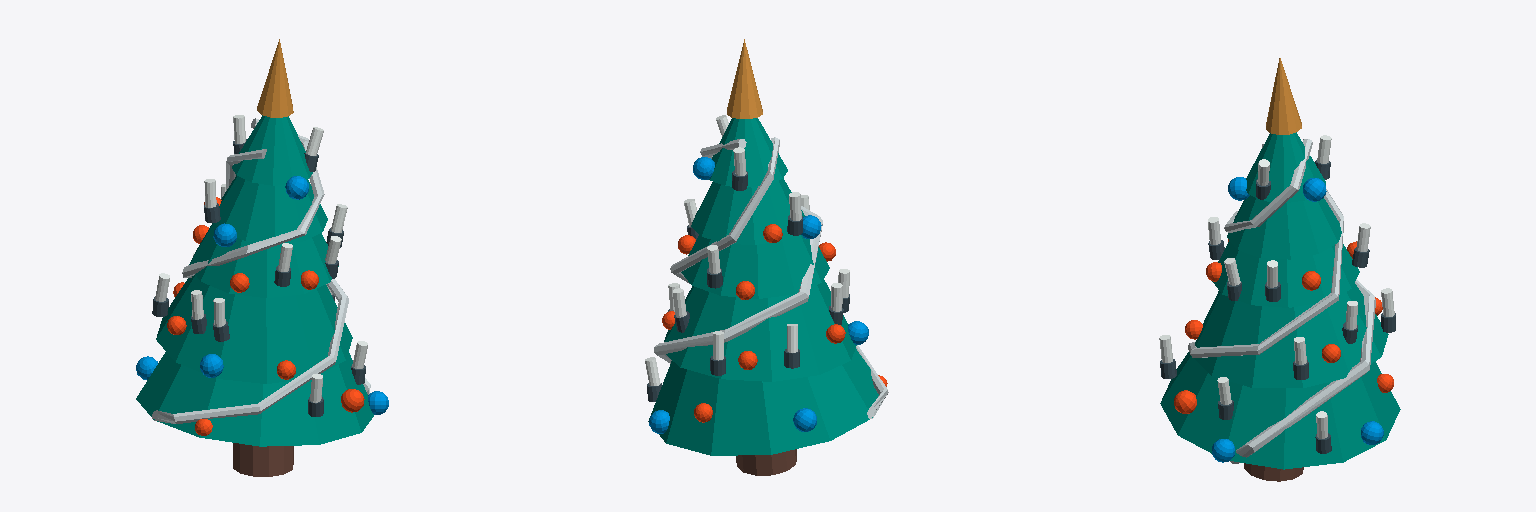
The model's file is tree_seven.obj.
The picture shows the model from 3 angles: view 1: azimuth 30°, elevation 25°; view 2: azimuth 150°, elevation 25°; view 3: azimuth 270°, elevation 25°; orthographic projection.
Parts seen in each view (by area): view 1: group[number redacted], group[number redacted], group[number redacted], group[number redacted], group[number redacted], group[number redacted], group[number redacted], group[number redacted], group[number redacted]; view 2: group[number redacted], group[number redacted], group[number redacted], group[number redacted], group[number redacted], group[number redacted], group[number redacted], group[number redacted], group[number redacted]; view 3: group[number redacted], group[number redacted], group[number redacted], group[number redacted], group[number redacted], group[number redacted], group[number redacted], group[number redacted], group[number redacted].
Boxes of the visible parts, box(x1,y1,x2,y2) form: group[number redacted]: box(156, 275, 352, 383); group[number redacted]: box(136, 352, 373, 446); group[number redacted]: box(189, 223, 338, 297); group[number redacted]: box(215, 175, 327, 243); group[number redacted]: box(232, 115, 312, 185); group[number redacted]: box(152, 149, 348, 423); group[number redacted]: box(182, 118, 370, 394); group[number redacted]: box(233, 443, 293, 476); group[number redacted]: box(257, 39, 293, 117); group[number redacted]: box(648, 349, 878, 455); group[number redacted]: box(664, 280, 856, 381); group[number redacted]: box(681, 235, 829, 298); group[number redacted]: box(691, 178, 804, 244); group[number redacted]: box(709, 118, 787, 187); group[number redacted]: box(654, 139, 822, 363); group[number redacted]: box(670, 137, 888, 418); group[number redacted]: box(727, 39, 762, 118); group[number redacted]: box(736, 449, 796, 475); group[number redacted]: box(1160, 342, 1400, 469); group[number redacted]: box(1194, 283, 1388, 387); group[number redacted]: box(1227, 195, 1341, 259); group[number redacted]: box(1212, 241, 1359, 307); group[number redacted]: box(1224, 139, 1375, 463); group[number redacted]: box(1246, 132, 1325, 202); group[number redacted]: box(1188, 144, 1343, 357); group[number redacted]: box(1266, 58, 1301, 134); group[number redacted]: box(1244, 463, 1303, 481).
Size of the model in its own units: 1.08 by 2.11 by 1.09.